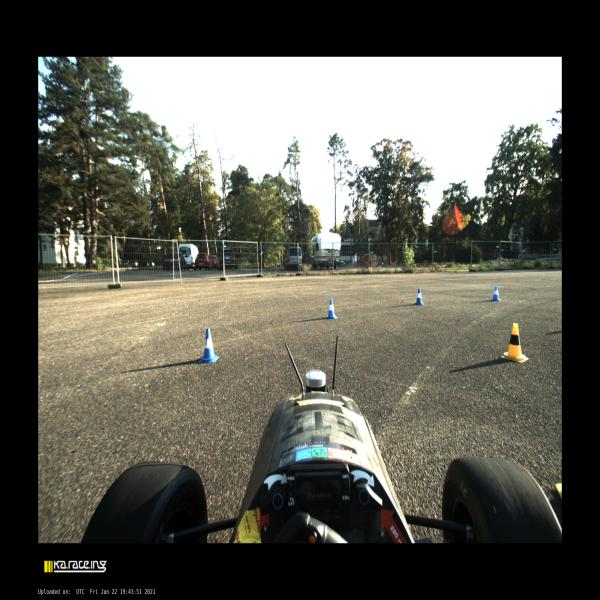blue_cone: (198, 328, 220, 363), (325, 298, 338, 319), (414, 288, 424, 306), (491, 286, 501, 302)
yellow_cone: (501, 323, 528, 363)
